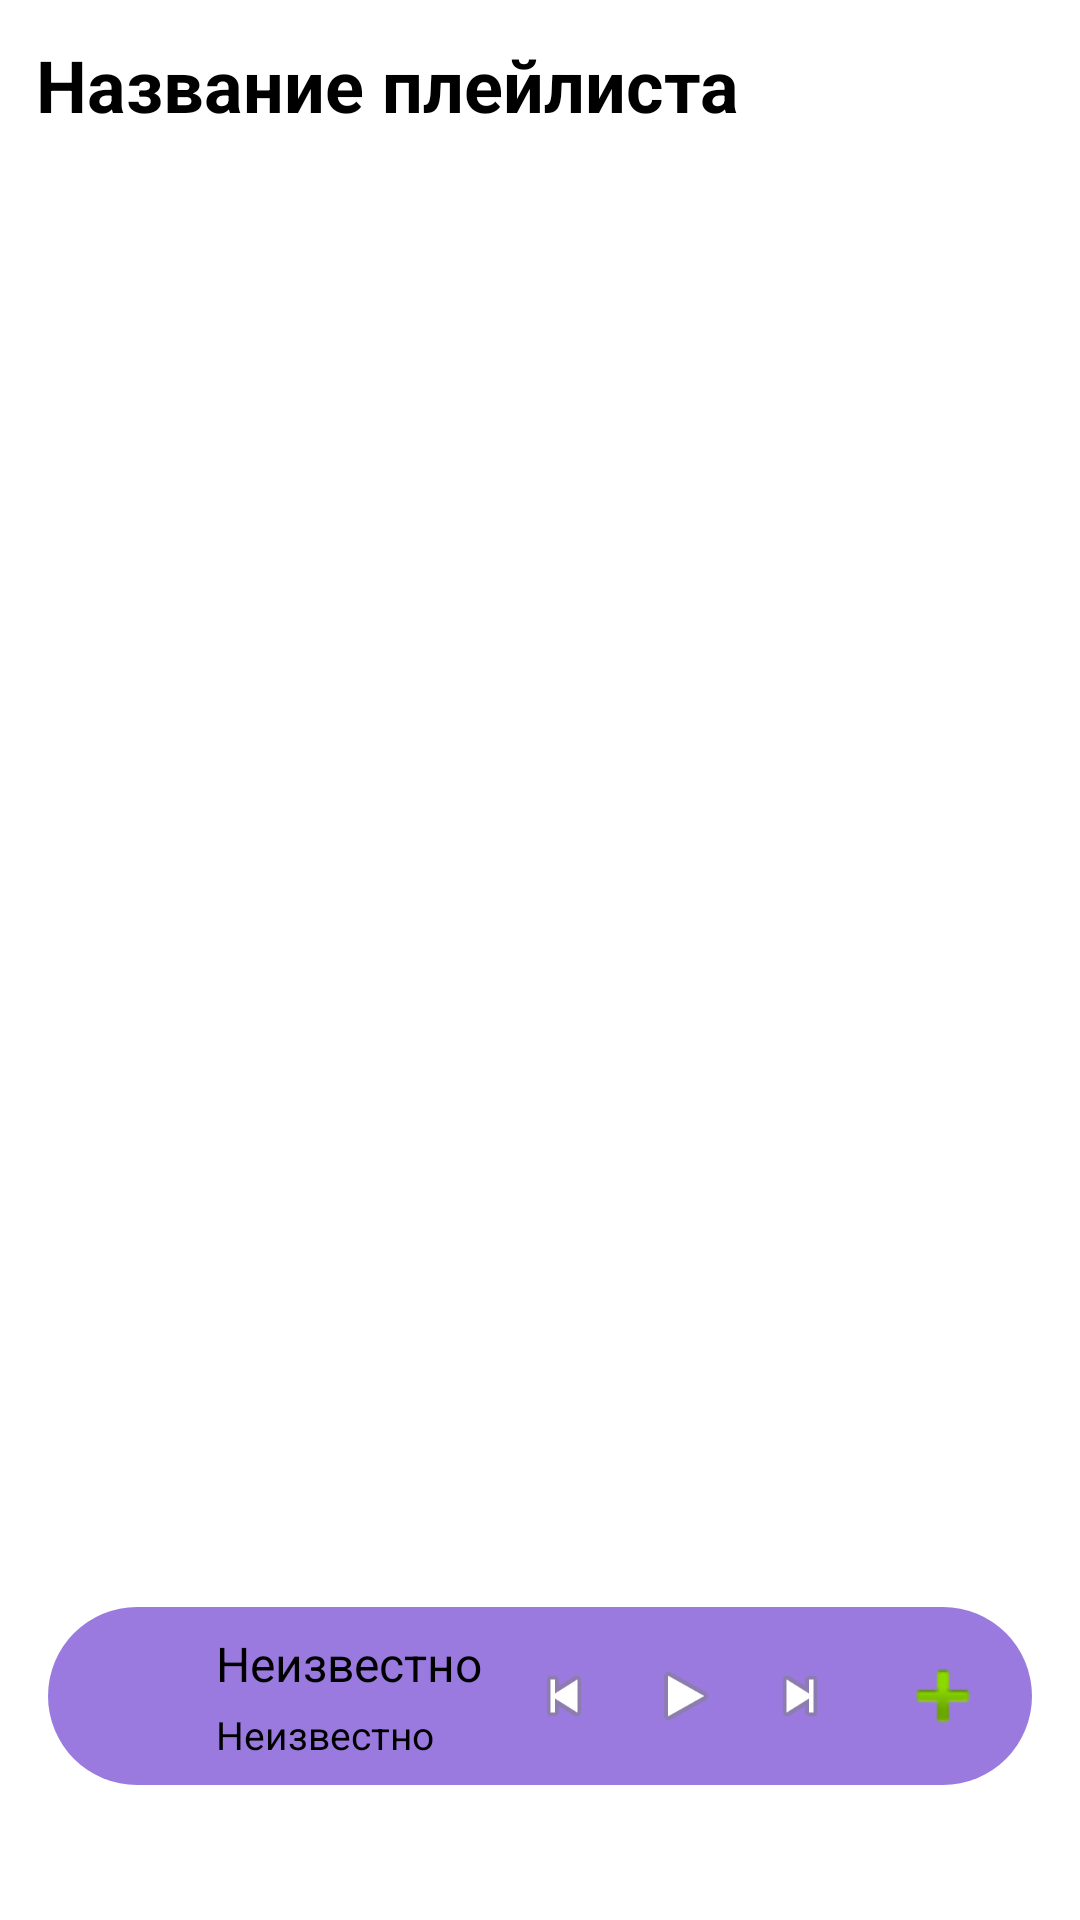

Named icons in this screenshot (1080px x 1920px) and their bounding boxes, (x1, y1, x2, y2):
add: (916, 1669, 970, 1723)
next: (783, 1676, 817, 1716)
play: (664, 1672, 708, 1720)
previous: (547, 1676, 581, 1716)
